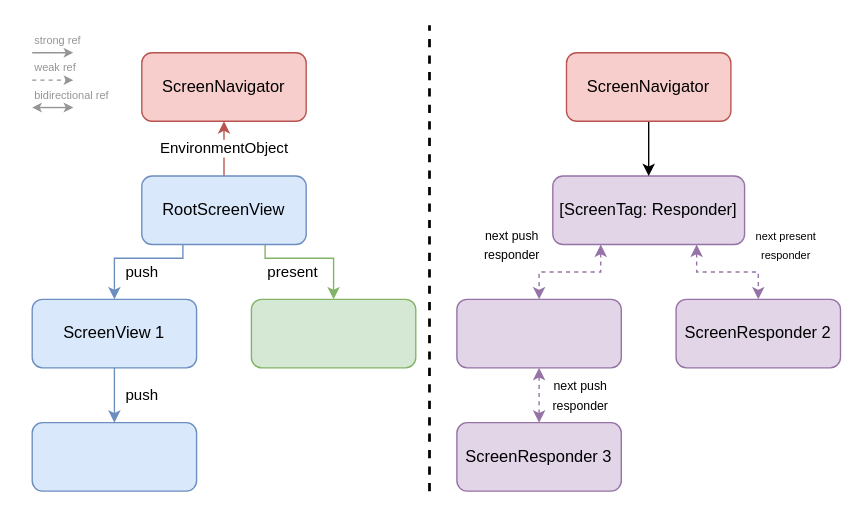
This 864x516 diagram has some shape labels left out. Each missing label, with the centre of its shape:
Screen 3: the point at 114,456
ScreenResponder 1: the point at 538,333
ScreenView 2: the point at 333,333
